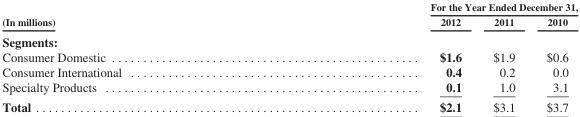table: (1, 0, 577, 114)
table column: (1, 0, 275, 114), (275, 0, 476, 114), (476, 0, 530, 114), (530, 0, 577, 114)
table column header: (1, 0, 577, 30)
table projected row header: (1, 30, 577, 48)
table row: (1, 30, 577, 48), (1, 96, 577, 114), (1, 79, 577, 96), (1, 14, 577, 30), (1, 63, 577, 79), (1, 48, 577, 63), (1, 0, 577, 14)
table spanning cell: (1, 0, 275, 30), (275, 0, 577, 14)
